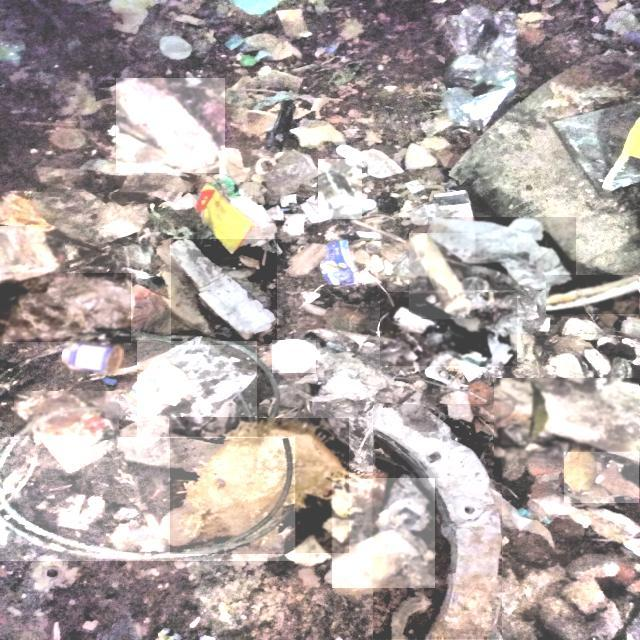anorganik: (0, 437, 295, 561), (373, 405, 502, 638), (170, 418, 349, 553), (31, 193, 201, 275), (495, 378, 639, 463), (137, 341, 257, 436), (172, 240, 277, 346), (333, 479, 435, 588), (116, 79, 225, 172), (380, 293, 517, 366), (446, 16, 520, 137), (14, 391, 119, 475), (1, 274, 131, 341), (194, 182, 254, 257), (0, 226, 65, 283), (546, 276, 638, 313), (319, 160, 361, 219), (62, 341, 124, 374), (322, 241, 363, 288), (272, 340, 315, 373)
organik: (429, 218, 576, 290), (410, 233, 474, 319), (564, 452, 638, 502)
